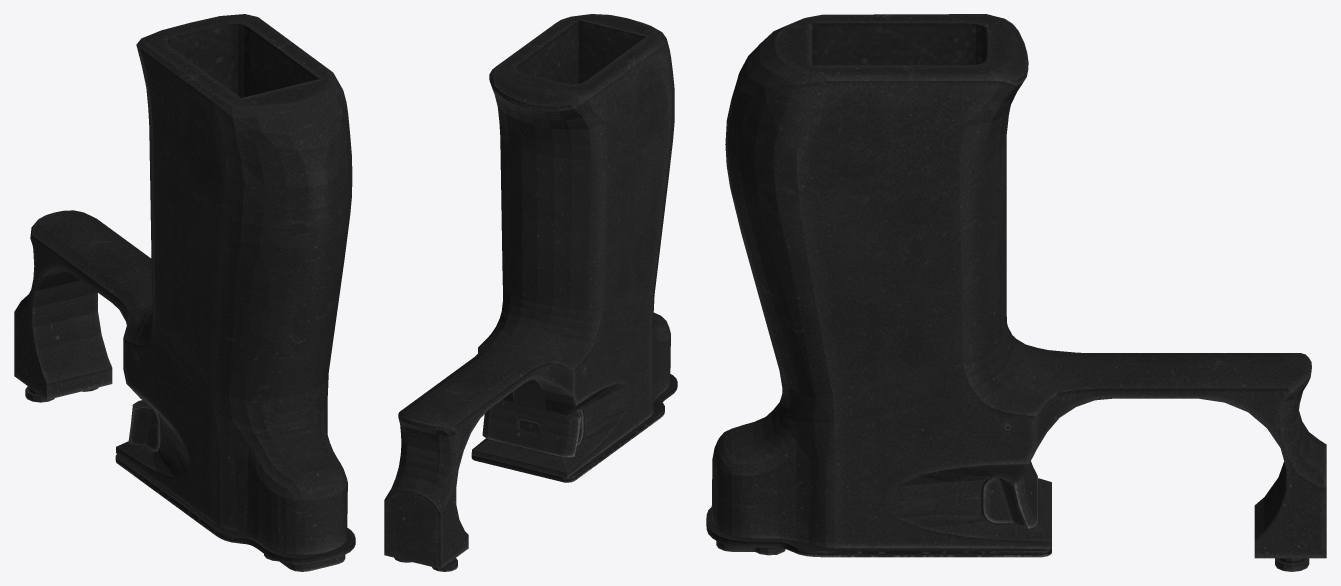
3 renders of one model, left to right at view 1: azimuth 30°, elevation 25°; view 2: azimuth 150°, elevation 25°; view 3: azimuth 270°, elevation 25°, orthographic. The views are drawn at different scales.
Parts seen in each view (by area): view 1: TW_637ba29bf7ca6372bf2613db_PZ_Import; view 2: TW_637ba29bf7ca6372bf2613db_PZ_Import; view 3: TW_637ba29bf7ca6372bf2613db_PZ_Import.
Part boxes in pixels (x1,y1,x2,y2): TW_637ba29bf7ca6372bf2613db_PZ_Import: (14,14,355,571); TW_637ba29bf7ca6372bf2613db_PZ_Import: (384,14,677,571); TW_637ba29bf7ca6372bf2613db_PZ_Import: (706,14,1326,571).
Size of the model in its own units: 0.0188 by 0.0751 by 0.068.
Materials: 1 (1 with a texture image).
